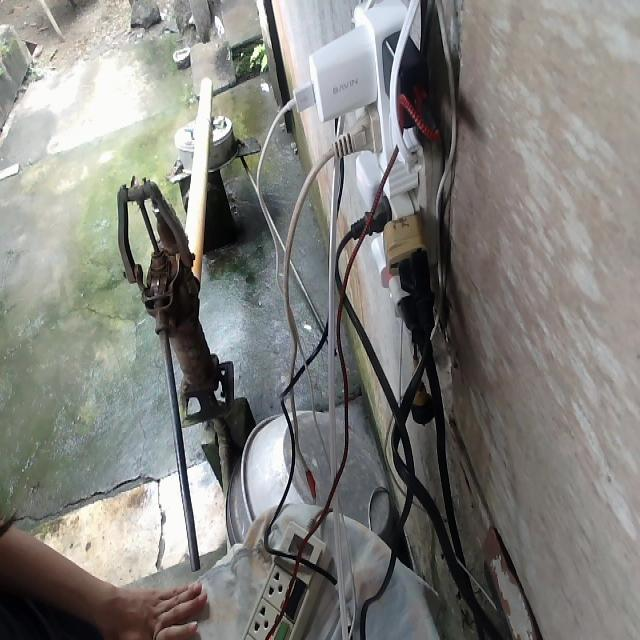-: (299, 0, 441, 336)
